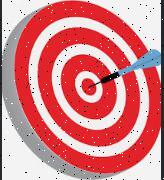target_red: (5, 0, 161, 179)
